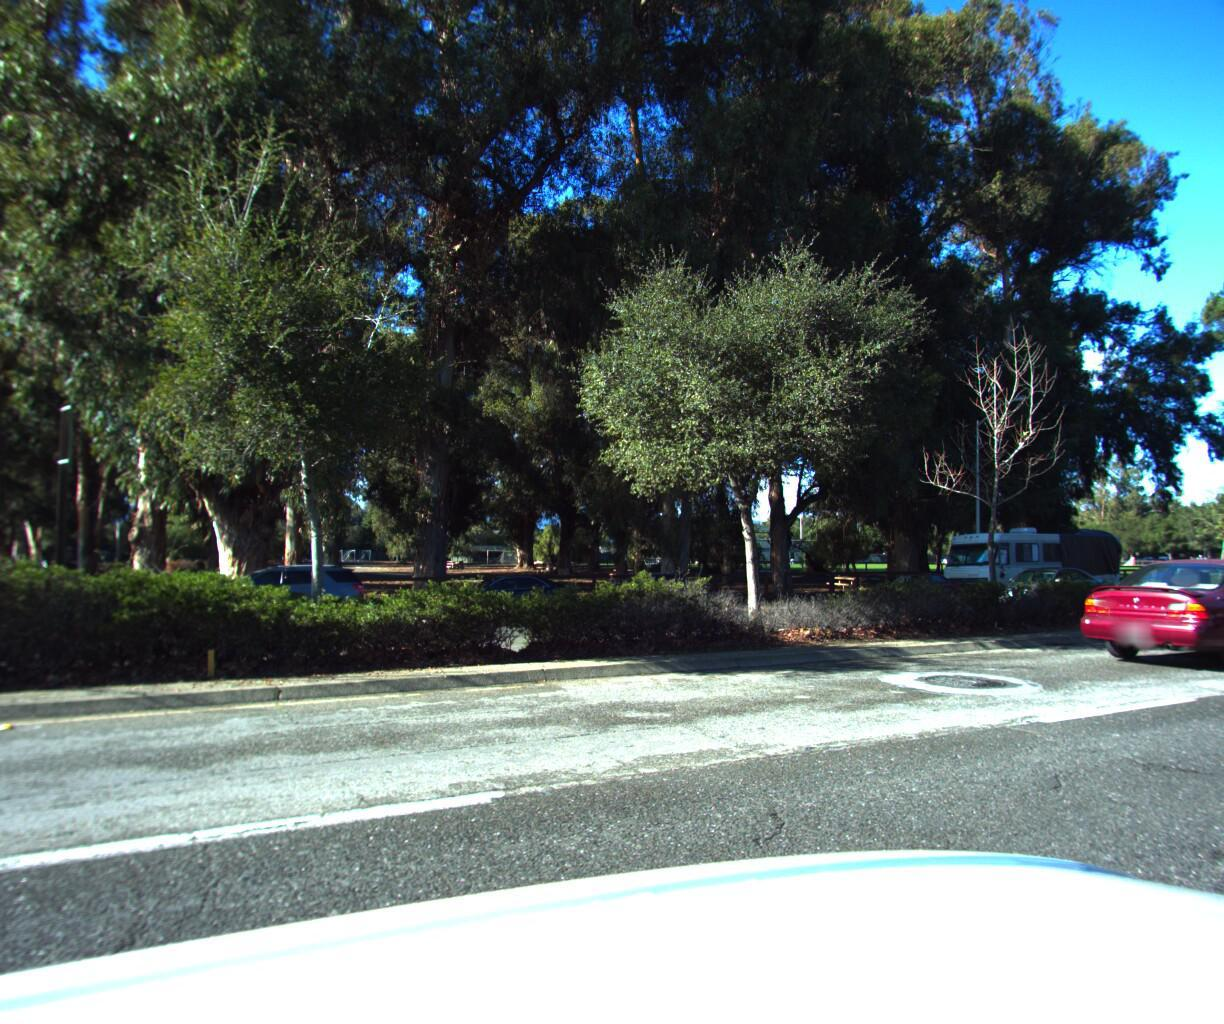car: (1063, 549, 1224, 675), (168, 560, 373, 635), (415, 571, 583, 626), (977, 564, 1108, 626), (0, 562, 80, 650), (573, 570, 716, 618), (856, 567, 967, 604)
other_vehicle: (929, 518, 1120, 600), (1206, 533, 1224, 588)
